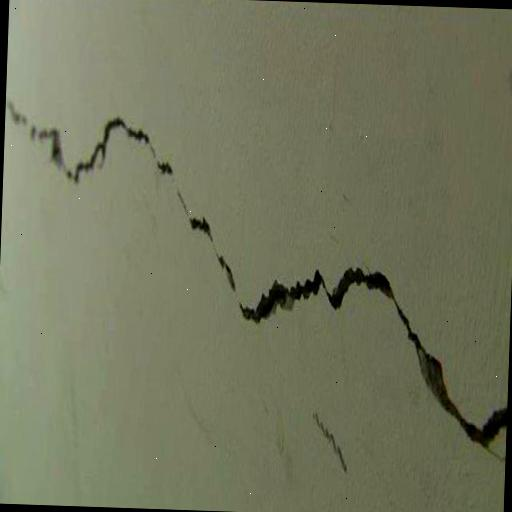spalling: (9, 96, 501, 448)
